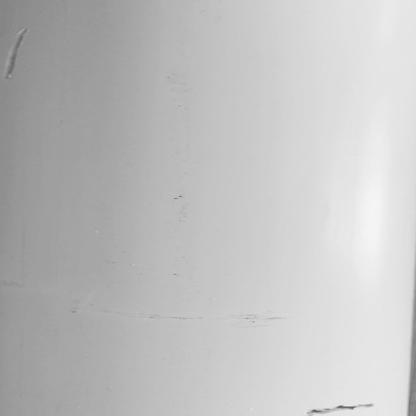fengxi: (306, 401, 375, 415)
sunshang: (4, 25, 28, 79)
